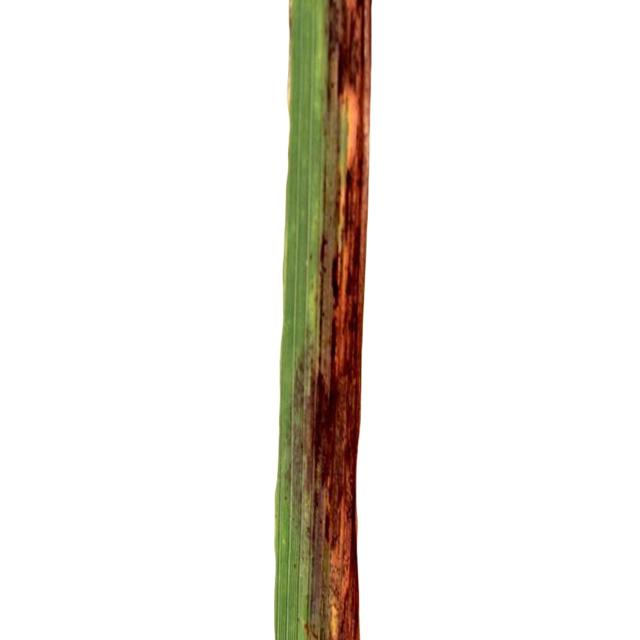Leaf scald: (210, 0, 516, 640)
